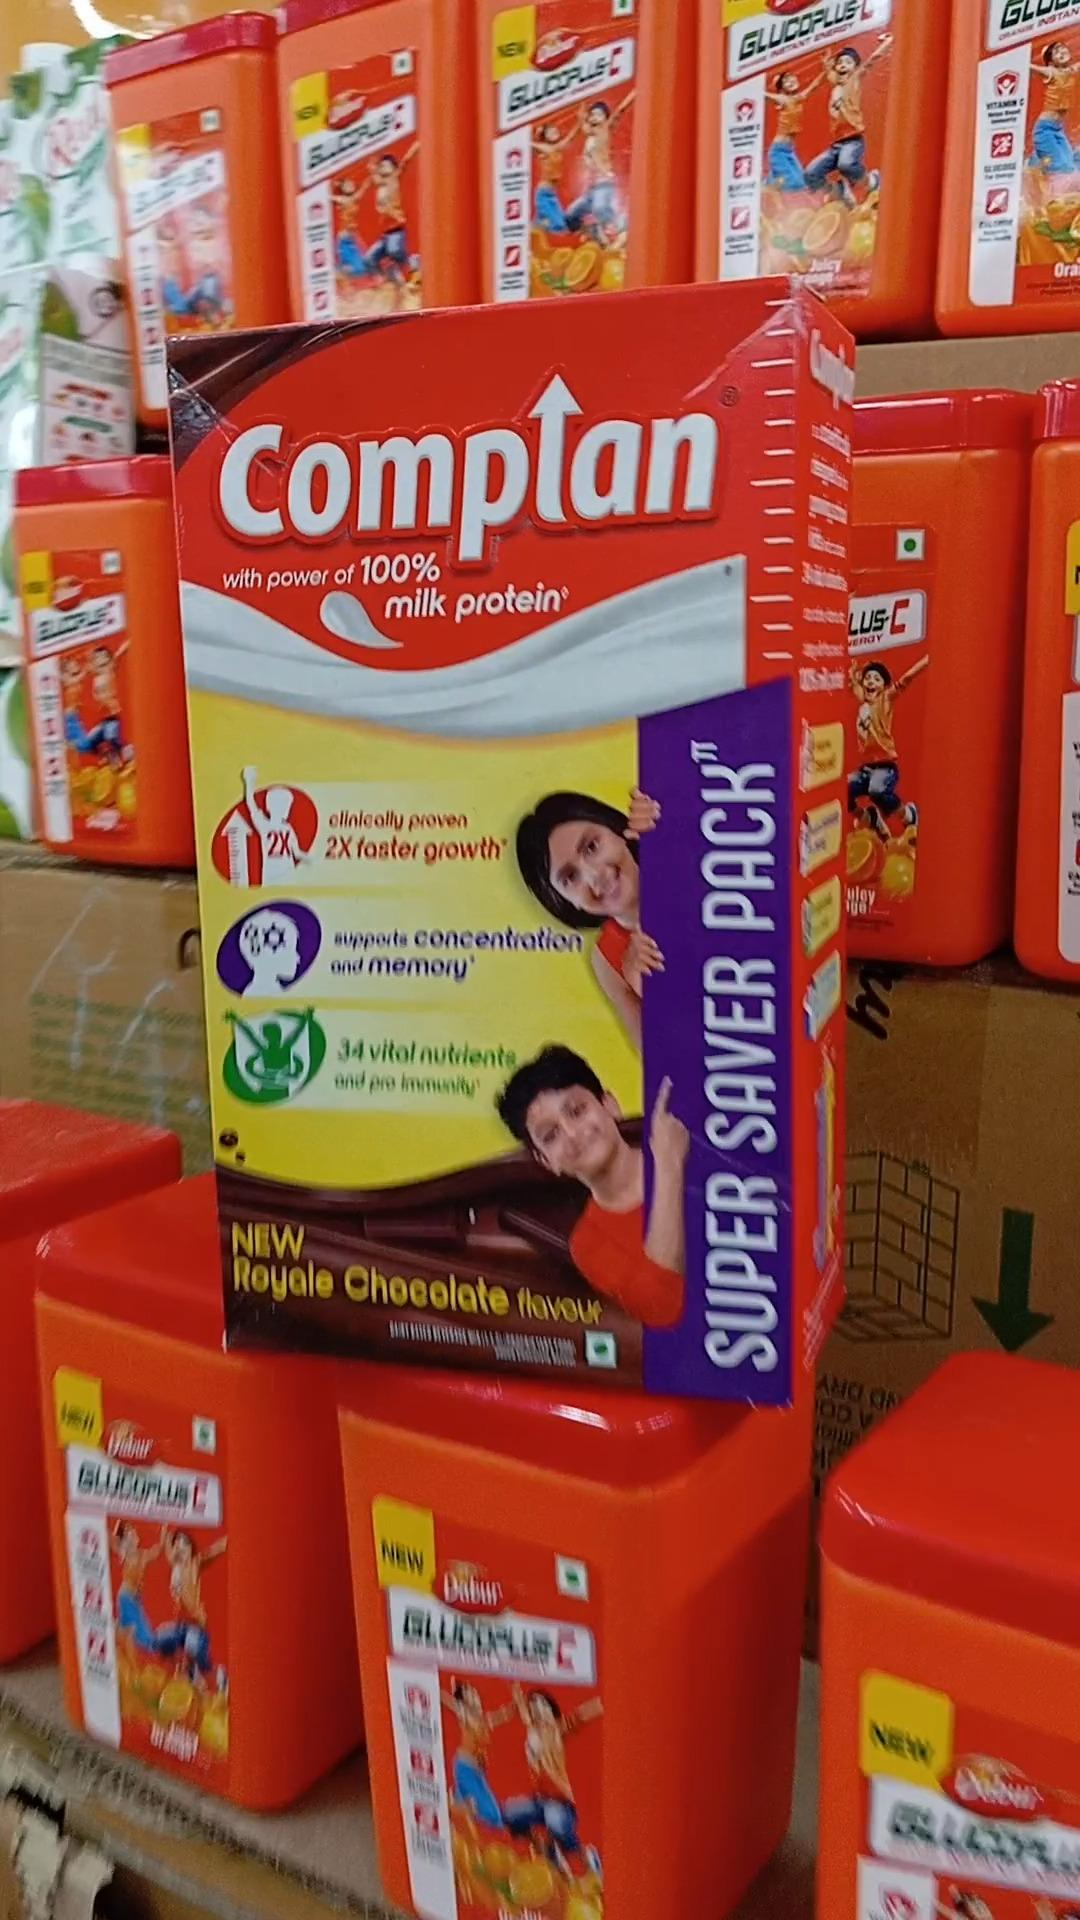COMPLAN_CHOCOLATE_1_KG_PACK: (179, 273, 794, 1419)
